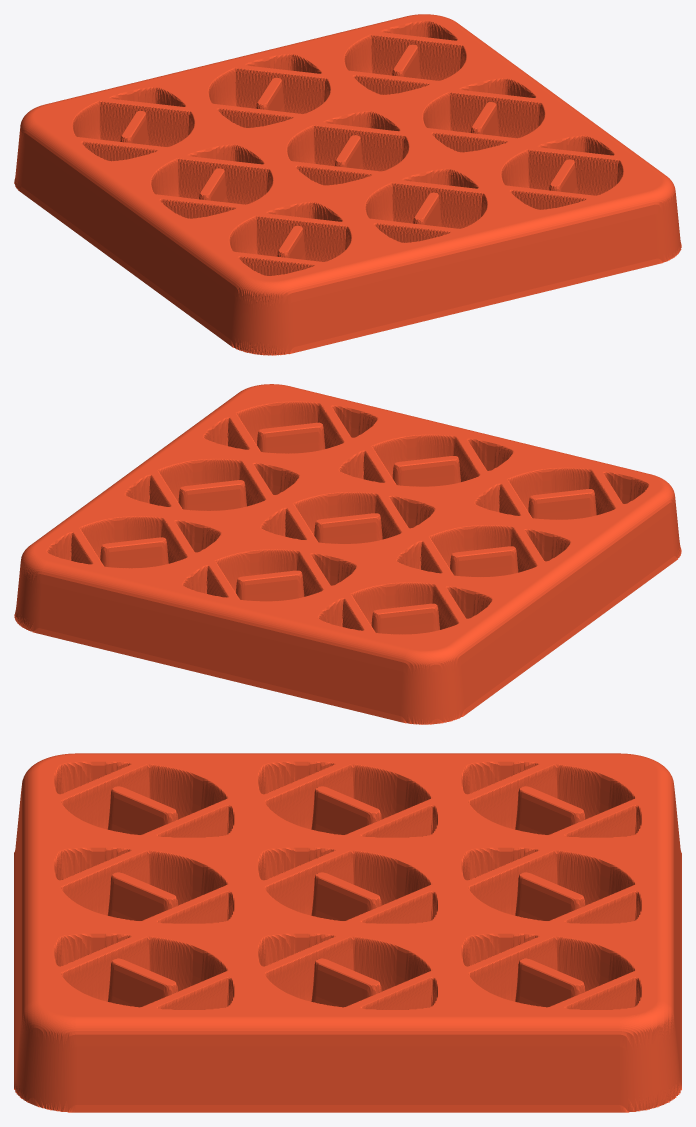
Rendered from mold.glb.
3 views of the same model, one above another, from view 1: azimuth 30°, elevation 25°; view 2: azimuth 150°, elevation 25°; view 3: azimuth 270°, elevation 25° (orthographic). The views are drawn at different scales.
Parts seen in each view (by area): view 1: geometry_0; view 2: geometry_0; view 3: geometry_0.
Boxes of the visible parts, x1,y1,x2,y2 form: geometry_0: (14,14,681,355); geometry_0: (14,384,681,724); geometry_0: (14,753,681,1112).
Size of the model in its own units: 0.0964 by 0.0136 by 0.0964.
